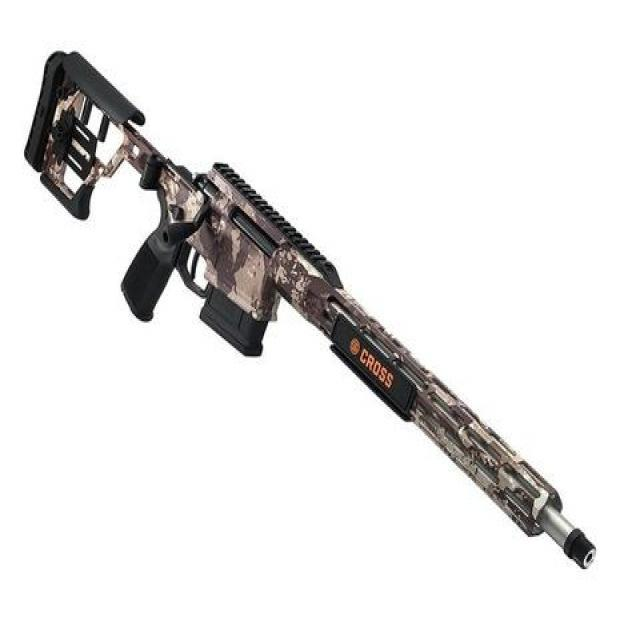weapon: (21, 46, 599, 574)
